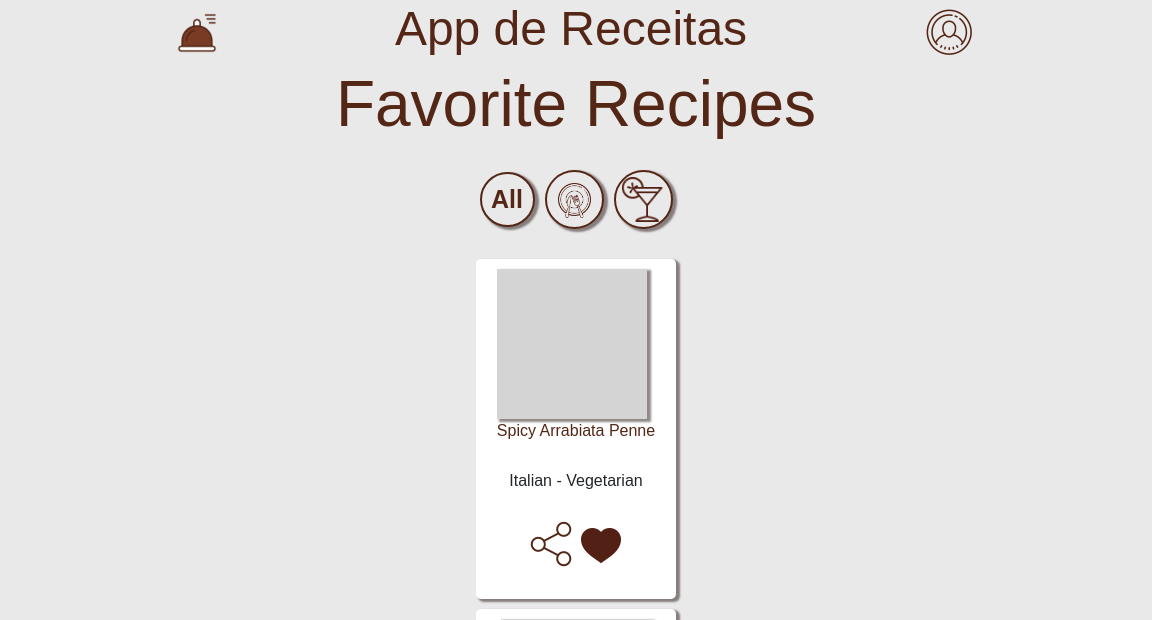
Testando a  Pagina FavoriteRecipes › testando conteudo da pagina com as receitas botao filtro meal
The image size is (1152, 620).
Check: the button with test id "filter-by-all-btn" is shown, box [480, 172, 534, 227]
Check: the button with test id "filter-by-meal-btn" is shown, box [544, 170, 604, 229]
Click the button with test id "filter-by-drink-btn": [643, 200] box [614, 170, 672, 229]
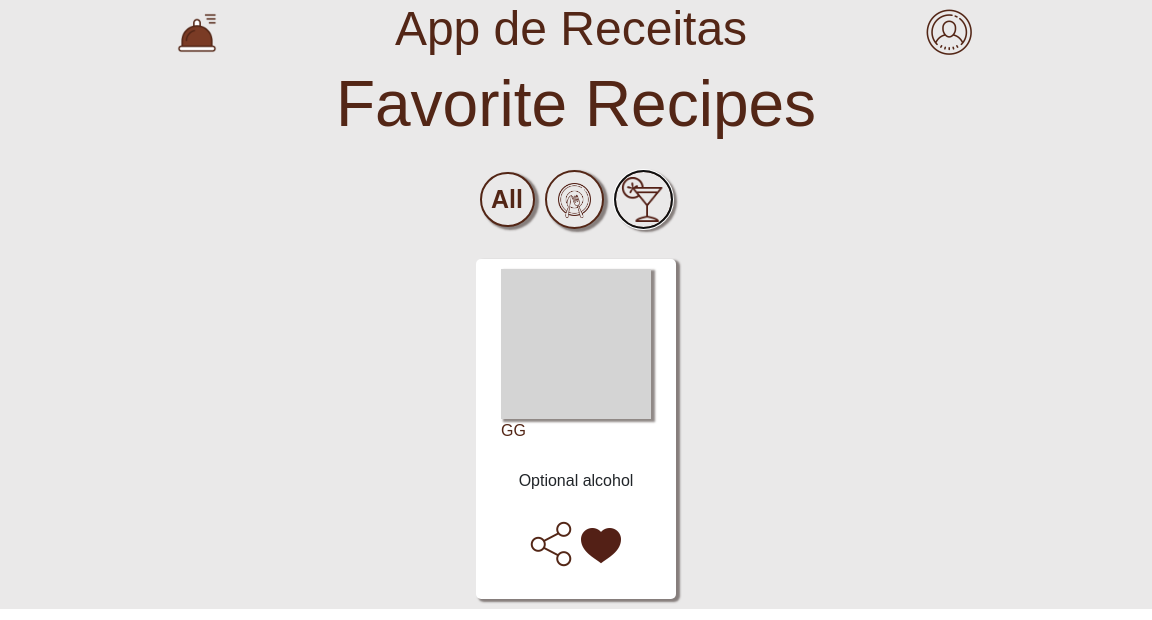
Check: the text "GG" is shown, box [501, 422, 526, 439]
Click the button with test id "filter-by-all-btn": [507, 200] box [480, 172, 534, 227]
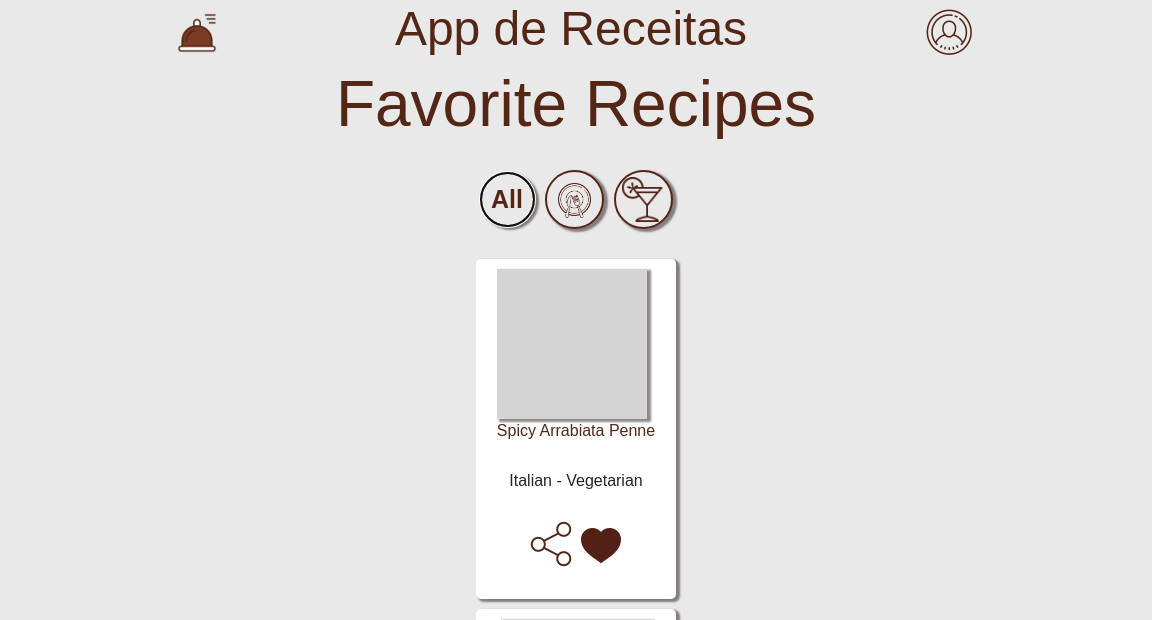
Check: the text "Spicy Arrabiata Penne" is shown, box [497, 419, 655, 443]
Click the button with test id "0-horizontal-share-btn": [551, 544] box [526, 519, 576, 569]
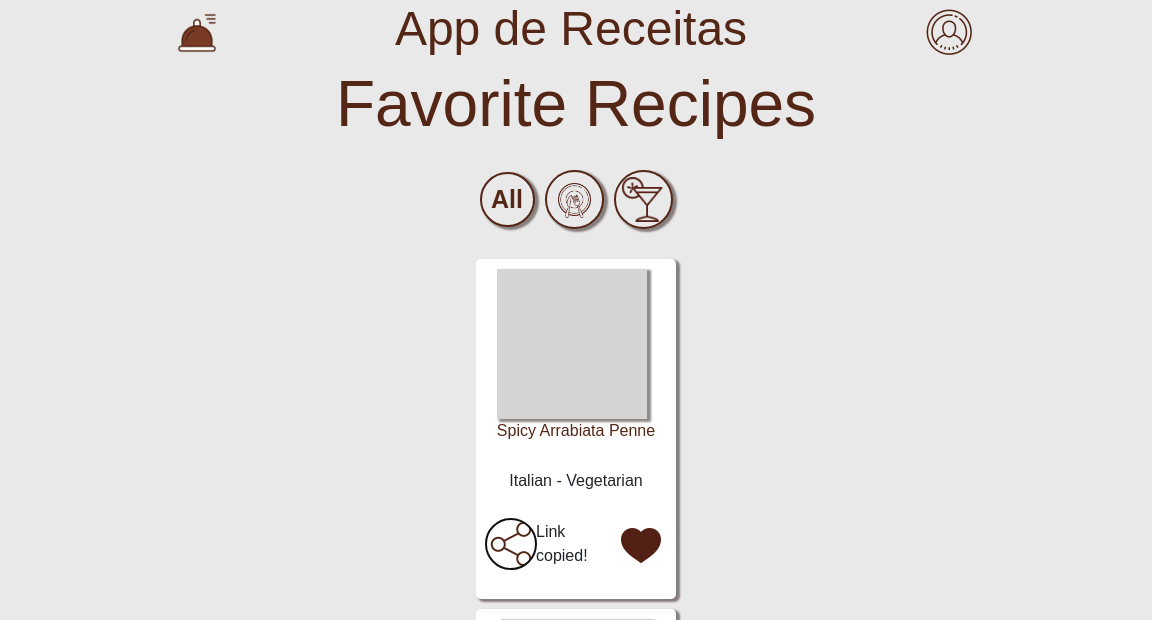
Check: the text "Link copied!" is shown, box [536, 523, 588, 564]
